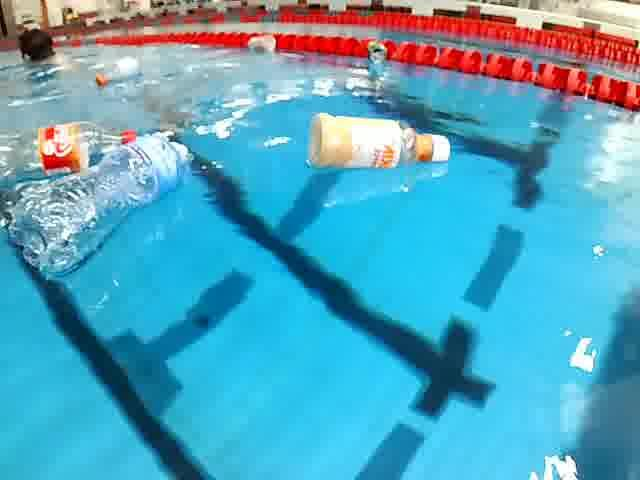Bottle: (5, 130, 200, 285), (303, 107, 457, 177), (0, 121, 144, 187), (93, 51, 145, 91)
Can: (354, 40, 395, 66), (242, 32, 282, 58)
